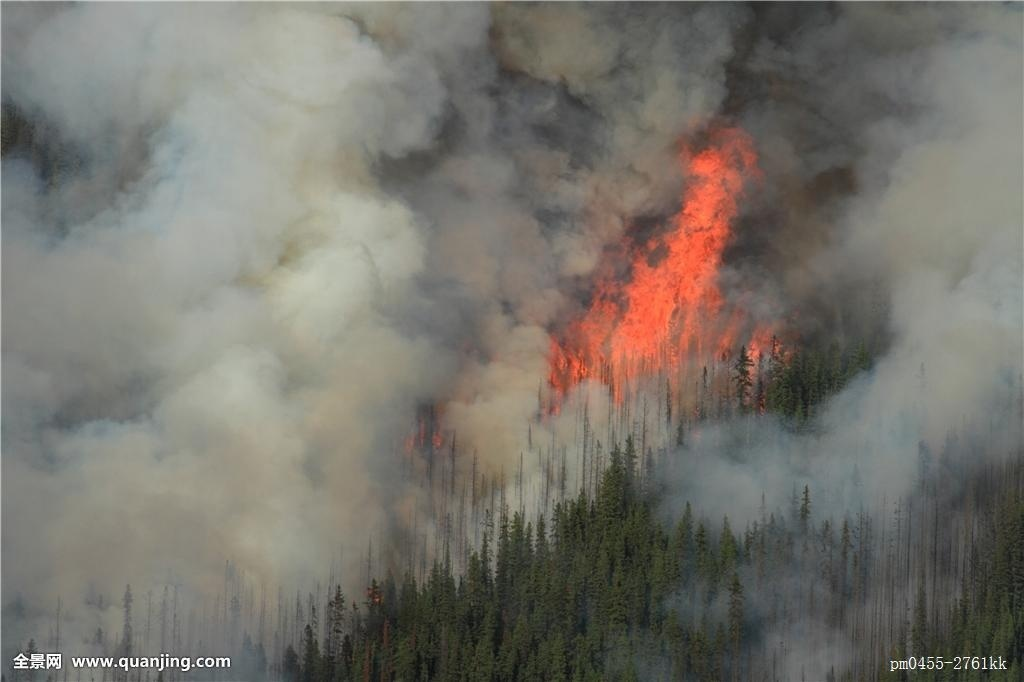fire: (537, 134, 788, 402)
